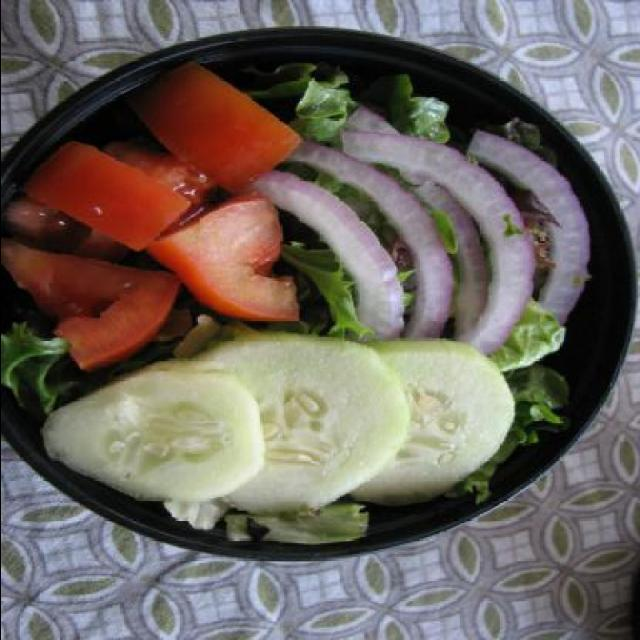Cucumber: (202, 332, 410, 514), (47, 348, 271, 508), (344, 338, 510, 507)
